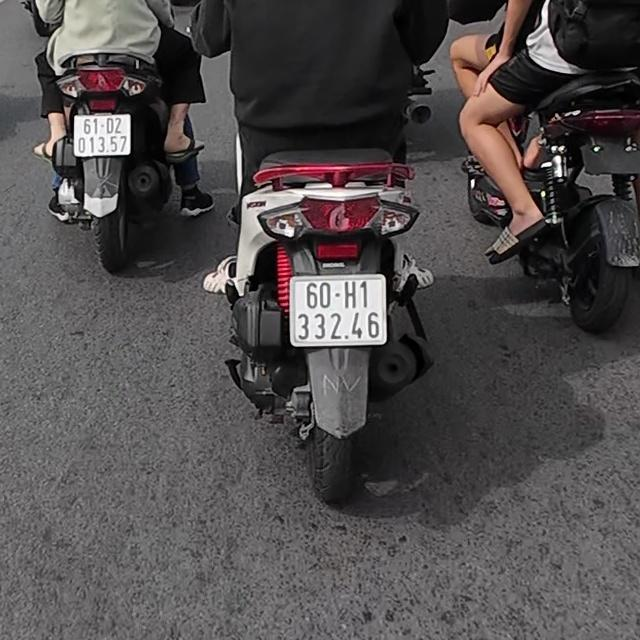motorcycle: (224, 153, 436, 502), (516, 74, 640, 341), (40, 48, 180, 272)
plate: (284, 274, 388, 347), (67, 110, 135, 156)
